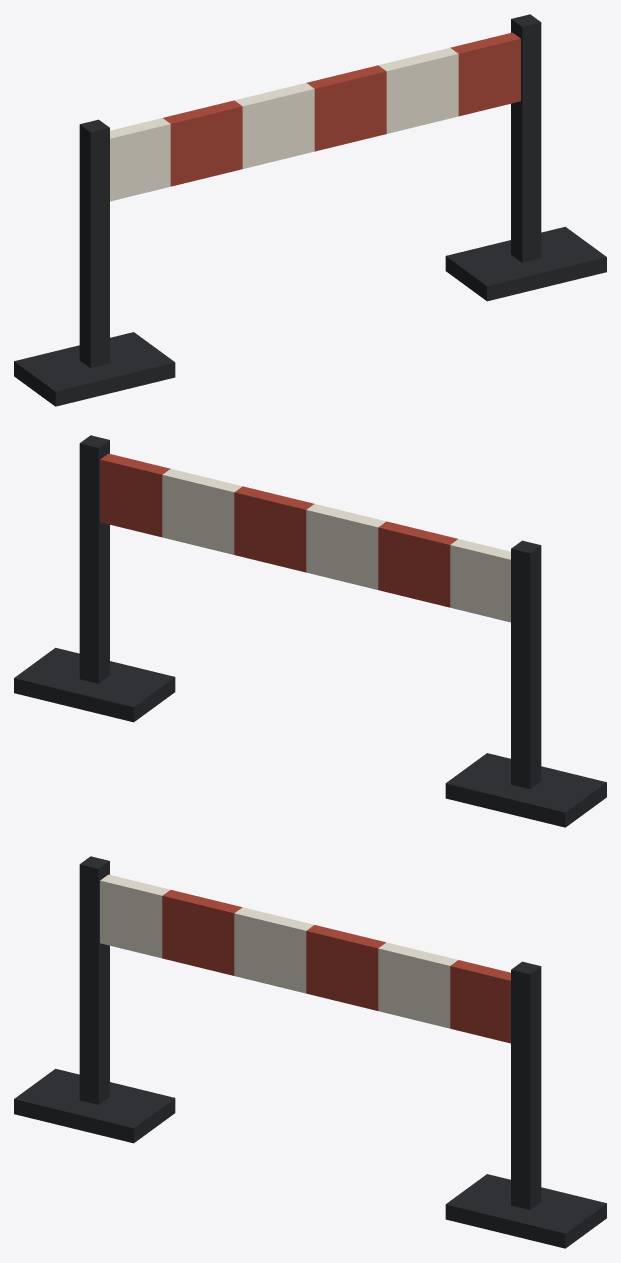
File: cp_barrier.glb
3 views of the same model, one above another, from view 1: azimuth 30°, elevation 25°; view 2: azimuth 150°, elevation 25°; view 3: azimuth 330°, elevation 25° (orthographic).
Visible parts, largest first — view 1: city_cp_barrier; view 2: city_cp_barrier; view 3: city_cp_barrier.
Part boxes in pixels (x1,y1,x2,y2): city_cp_barrier: (14,14,606,406); city_cp_barrier: (14,435,606,827); city_cp_barrier: (14,856,606,1248).
Size of the model in its own units: 2.3 by 1 by 0.3.
1 material, 1 textured.
